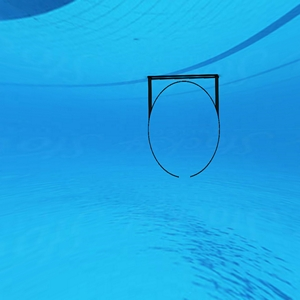circle: (139, 69, 228, 179)
